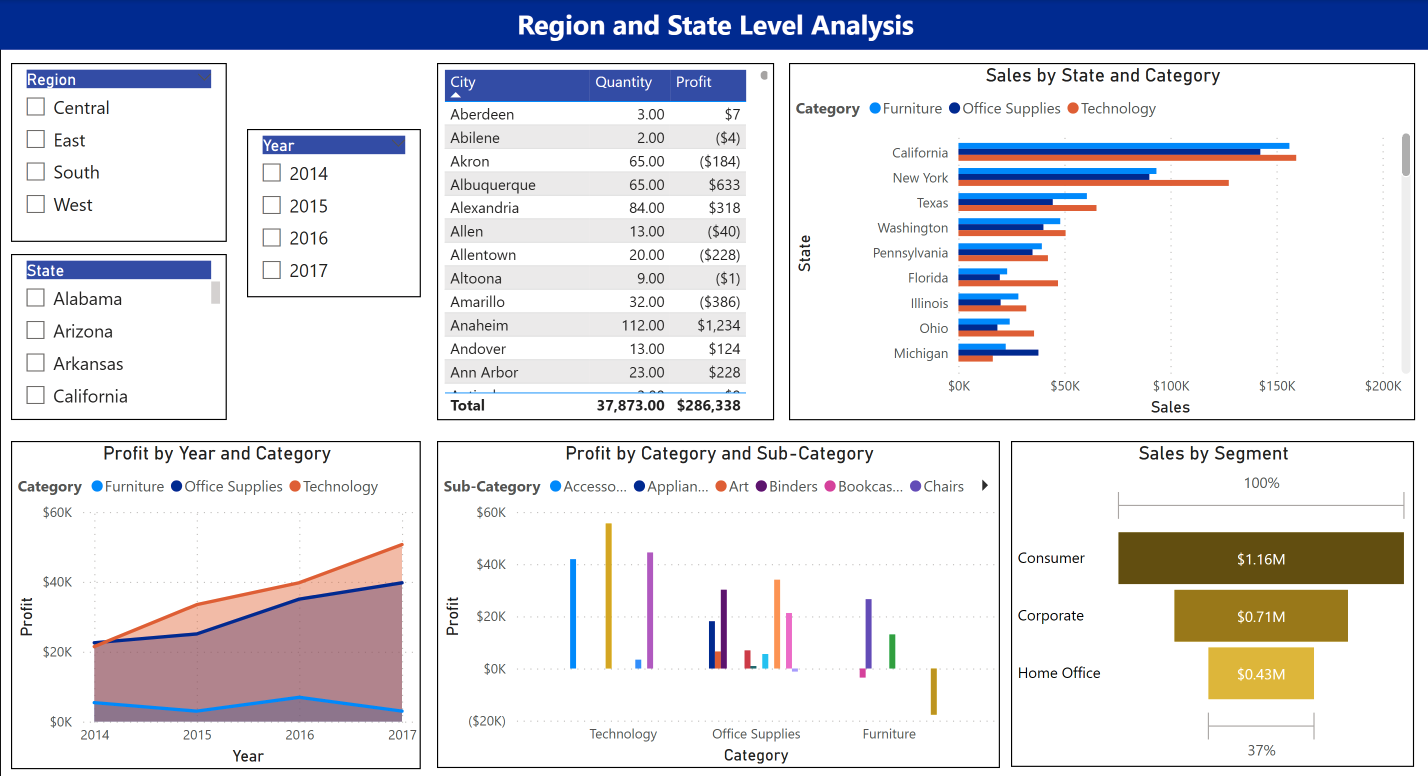

The dashboard page shown, as its layout file describes it:
{"tool":"powerbi","page":{"name":"Page 2","canvas":[1280,720],"ordinal":1},"visuals":[{"type":"textbox","box":[0,0,1279.9,44.7],"z":0},{"type":"slicer","fields":{"Values":["Orders$.Region"]},"box":[9.8,56.3,193.2,160.1],"z":1},{"type":"slicer","fields":{"Values":["Orders$.State"]},"box":[9.8,227.2,193.2,148.5],"z":2},{"type":"slicer","fields":{"Values":["Orders$.Order Date.Variation.Date Hierarchy.Year"]},"box":[220.9,115.4,155.6,150.3],"z":3},{"type":"tableEx","fields":{"Values":["Orders$.City","Sum(Orders$.Quantity)","Sum(Orders$.Profit)"]},"box":[390.9,56.3,301.4,319.3],"z":4},{"type":"clusteredBarChart","title":"Sales by State and Category","fields":{"Category":["Orders$.State"],"Series":["Orders$.Category"],"Y":["Sum(Orders$.Sales)"]},"box":[705.7,56.3,559.9,319.3],"z":5},{"type":"areaChart","title":"Profit by Year and Category","fields":{"Category":["Orders$.Order Date.Variation.Date Hierarchy.Year"],"Series":["Orders$.Category"],"Y":["Sum(Orders$.Profit)"]},"box":[9.8,394.4,366.7,293.4],"z":6},{"type":"clusteredColumnChart","fields":{"Category":["Orders$.Category"],"Y":["Sum(Orders$.Profit)"],"Series":["Orders$.Sub-Category"]},"box":[390.9,394.4,503.6,292.5],"z":7},{"type":"funnel","title":"Sales by Segment","fields":{"Category":["Orders$.Segment"],"Y":["Sum(Orders$.Sales)"]},"box":[904.2,394.4,360.4,291.6],"z":8}]}

Visuals, with their boxes on the page's 1280x720 design canvas (x1, y1, x2, y2). These are canvas units, not pixel positions in the 1428x776 screenshot, which may show the page scaled, cropped or inside an application window:
textbox: x1=0 y1=0 x2=1280 y2=45
slicer - Orders$.Region: x1=10 y1=56 x2=203 y2=216
slicer - Orders$.State: x1=10 y1=227 x2=203 y2=376
slicer - Orders$.Order Date.Variation.Date Hierarchy.Year: x1=221 y1=115 x2=376 y2=266
tableEx - Orders$.City x Sum(Orders$.Quantity): x1=391 y1=56 x2=692 y2=376
"Sales by State and Category" clusteredBarChart: x1=706 y1=56 x2=1266 y2=376
"Profit by Year and Category" areaChart: x1=10 y1=394 x2=376 y2=688
clusteredColumnChart - Orders$.Category x Sum(Orders$.Profit): x1=391 y1=394 x2=894 y2=687
"Sales by Segment" funnel: x1=904 y1=394 x2=1265 y2=686
